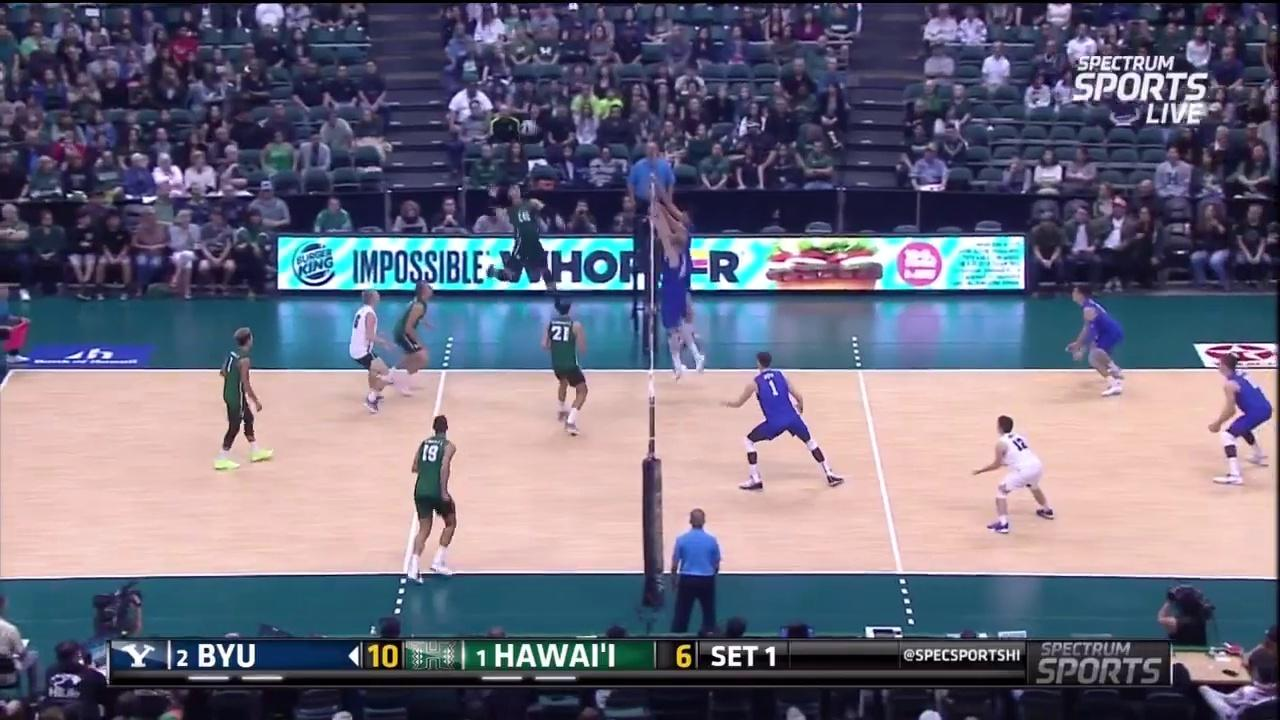player: (737, 354, 841, 489), (1202, 353, 1278, 490), (969, 417, 1057, 531), (406, 418, 464, 577), (219, 333, 271, 468), (1066, 285, 1127, 398), (661, 231, 703, 379), (394, 275, 444, 399), (544, 303, 589, 431), (352, 291, 398, 411), (666, 209, 699, 351)
refree: (667, 510, 724, 636), (626, 137, 676, 249), (0, 276, 50, 380)
